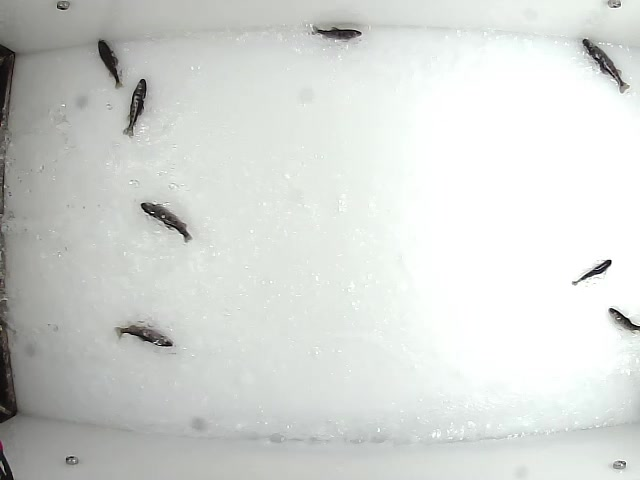fish: (581, 36, 631, 95), (137, 198, 195, 242), (121, 74, 149, 139), (112, 320, 175, 347), (95, 38, 125, 91), (570, 257, 612, 287), (310, 22, 363, 41), (608, 306, 640, 336)
